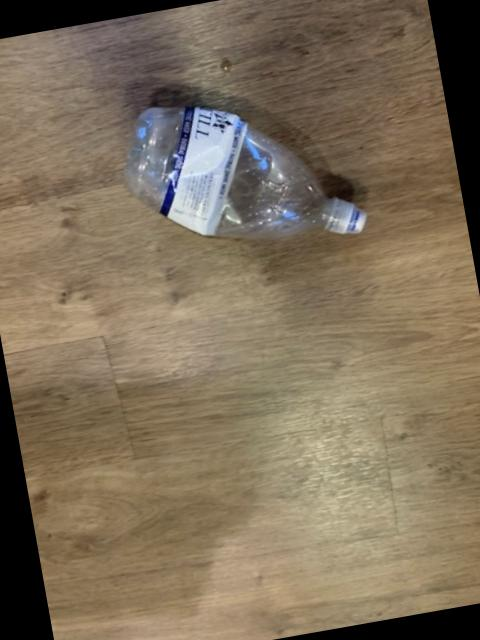plastic: (126, 108, 367, 239)
